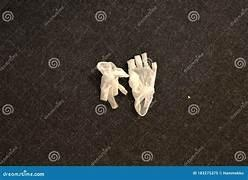Glove: (127, 53, 156, 115), (97, 62, 128, 108)
